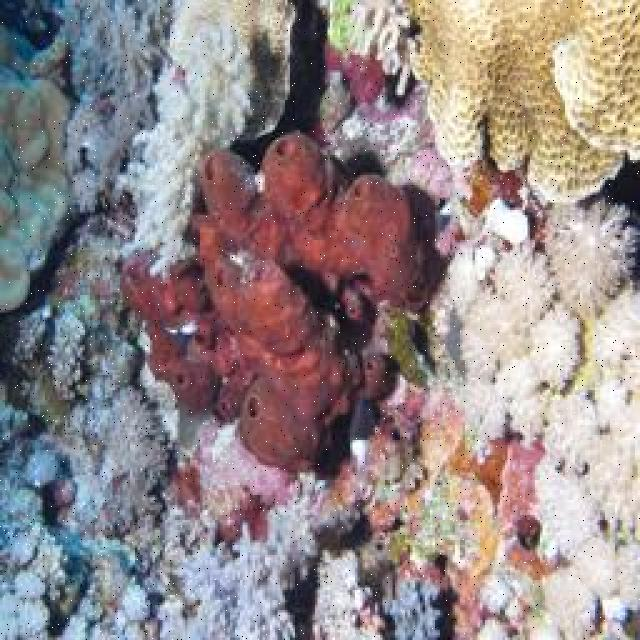reefs: (122, 130, 429, 472), (437, 196, 638, 638), (404, 0, 638, 204), (109, 27, 254, 278), (1, 30, 72, 317), (340, 1, 412, 95)
